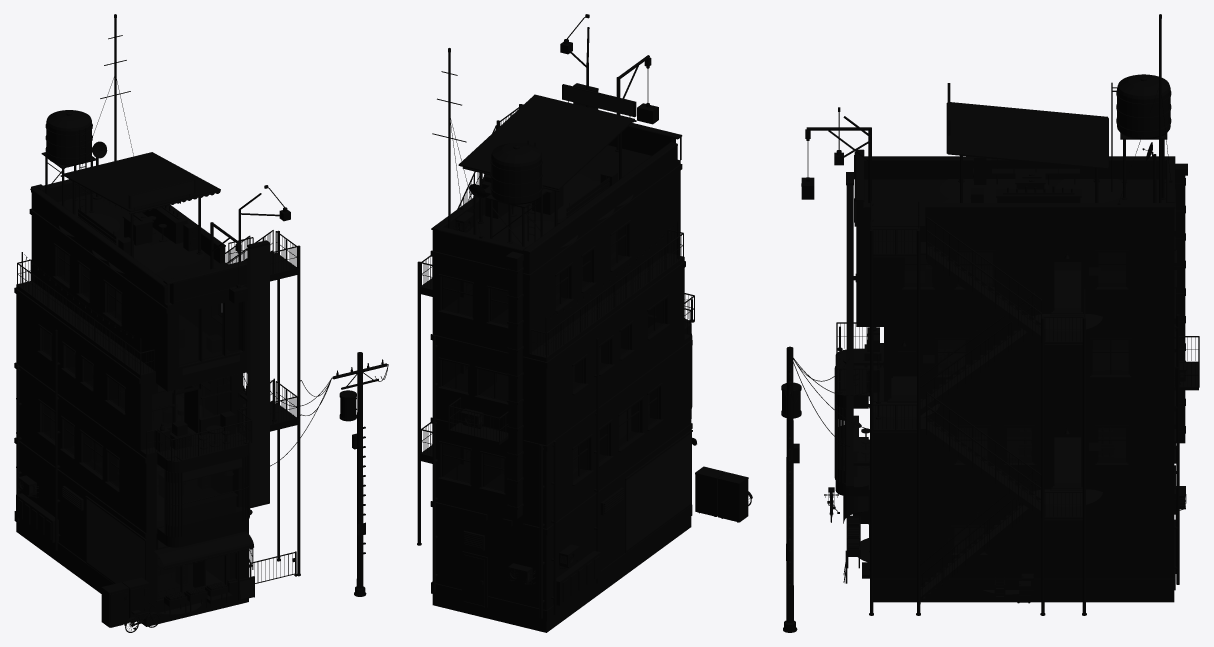
Rendered from sideb-BV6wQQjI.glb.
3 renders of one model, left to right at view 1: azimuth 30°, elevation 25°; view 2: azimuth 150°, elevation 25°; view 3: azimuth 270°, elevation 25°, orthographic. The views are drawn at different scales.
Parts seen in each view (by area): view 1: body, glow, glass, pool; view 2: body, glass, glow, pool; view 3: body, glow, glass, pool.
Part boxes in pixels (x1,y1,x2,y2): body: (14, 18, 388, 632); glow: (26, 14, 298, 599); glass: (43, 249, 246, 620); pool: (59, 213, 252, 614); body: (417, 14, 752, 632); glass: (444, 226, 663, 490); glow: (419, 48, 691, 550); pool: (511, 173, 649, 427); body: (781, 19, 1199, 632); glow: (839, 14, 1161, 548); glass: (838, 252, 1128, 551); pool: (840, 179, 1126, 594).
Size of the model in its own units: 12.3 by 23.28 by 15.14.
Materials: 4 (4 with a texture image).
